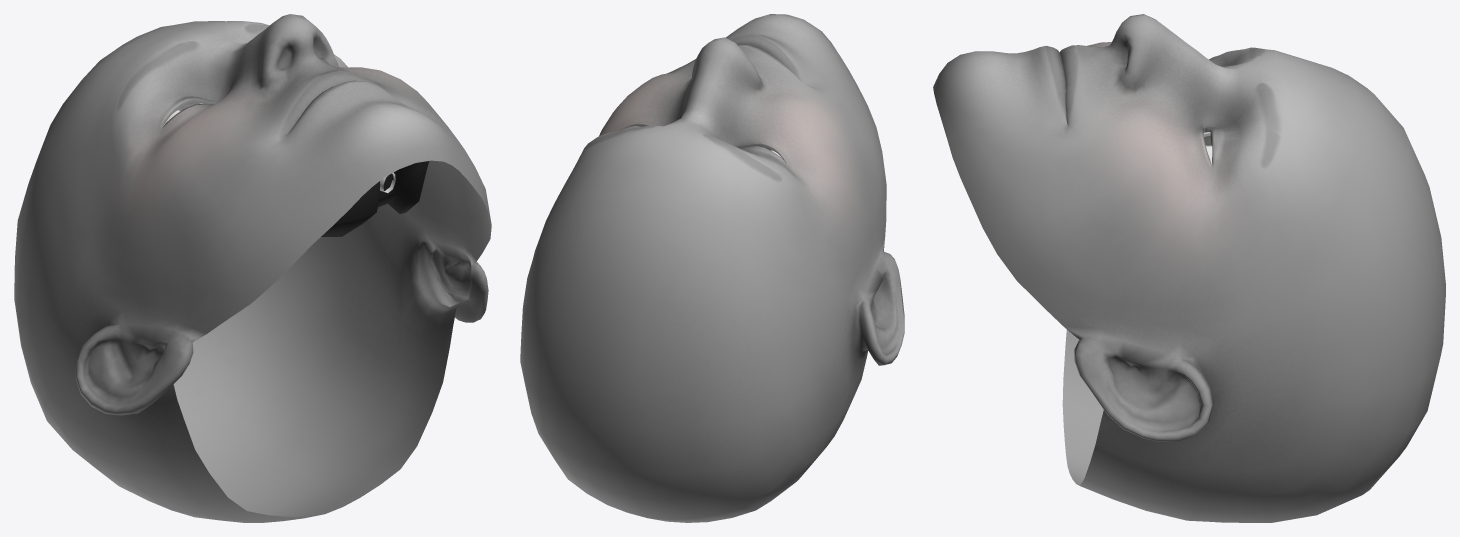
The model's file is jarvis_head.glb.
The picture shows the model from 3 angles, left to right: view 1: azimuth 30°, elevation 25°; view 2: azimuth 150°, elevation 25°; view 3: azimuth 270°, elevation 25°; orthographic projection. The views are drawn at different scales.
Parts seen in each view (by area): view 1: FaceCap_Head; view 2: FaceCap_Head; view 3: FaceCap_Head.
Part boxes in pixels (box(x1,y1,x2,y2)): FaceCap_Head: box(14, 14, 491, 522); FaceCap_Head: box(520, 14, 904, 522); FaceCap_Head: box(933, 14, 1445, 522).
Size of the model in its own units: 0.1787 by 0.2251 by 0.2104.
Materials: 2 (2 with a texture image).
